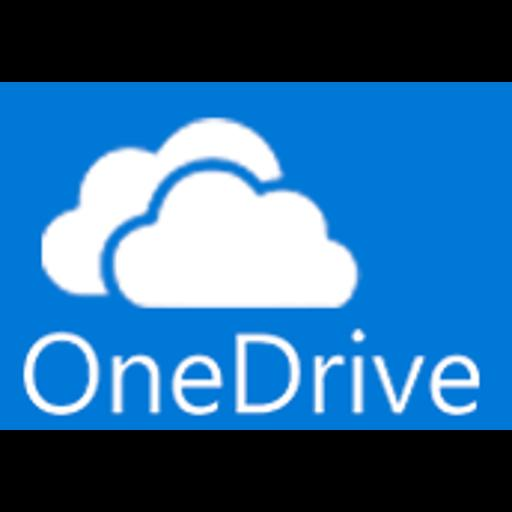Outlook: (0, 82, 512, 430)
